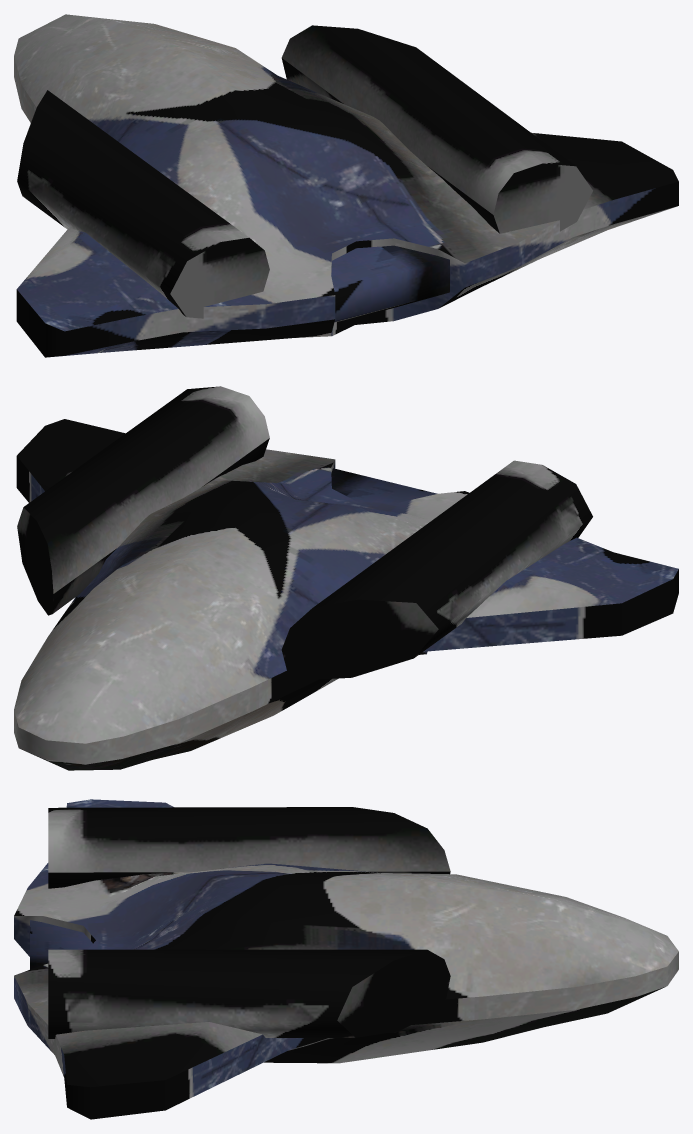
Rendered from ship08.fbx.
3 renders of one model, top to bottom at view 1: azimuth 30°, elevation 25°; view 2: azimuth 150°, elevation 25°; view 3: azimuth 270°, elevation 25°, orthographic. The views are drawn at different scales.
Visible parts, largest first — view 1: PipelineFBX; view 2: PipelineFBX; view 3: PipelineFBX.
Boxes of the visible parts, x1,y1,x2,y2 form: PipelineFBX: (14, 14, 678, 357); PipelineFBX: (14, 386, 678, 770); PipelineFBX: (14, 799, 678, 1119).
Bounding box in the file's own units: 53.53 × 15.44 × 52.26.
Materials: 1 (1 with a texture image).
